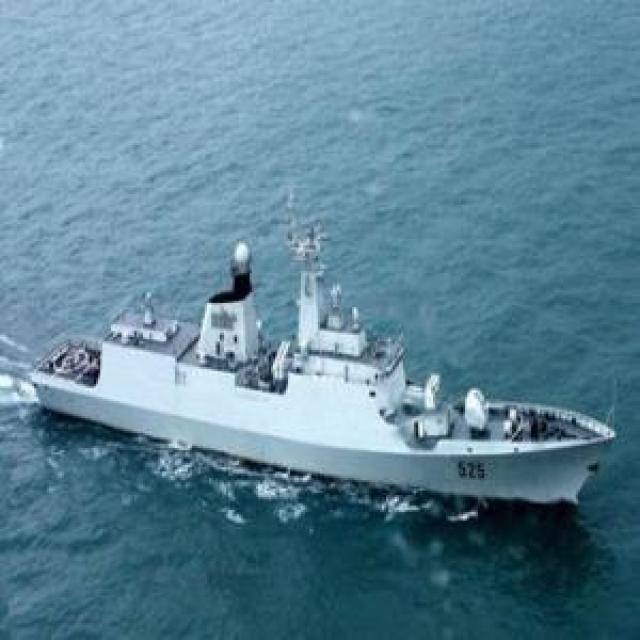navalvessels: (34, 213, 605, 508)
